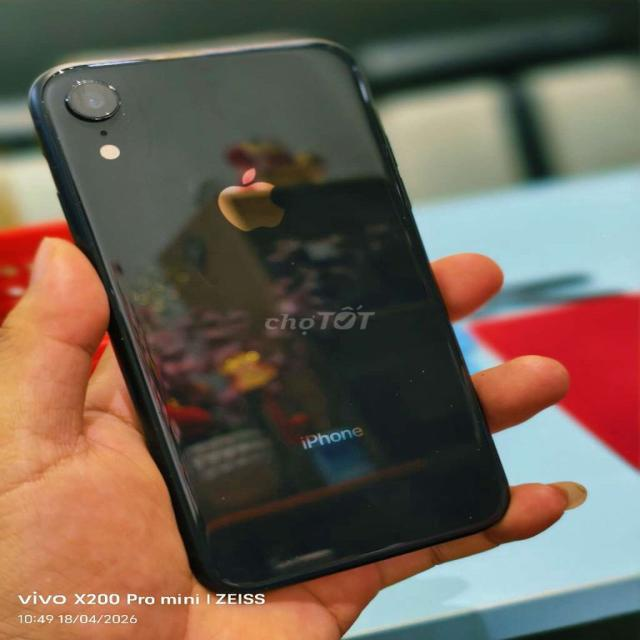gen_x_xs: (19, 54, 516, 598)
